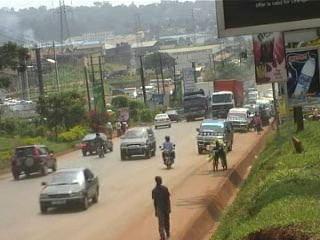Car: (37, 168, 102, 215), (10, 143, 60, 182), (117, 125, 158, 163), (78, 129, 115, 157), (152, 112, 172, 129), (164, 108, 179, 122)
Motorcycle: (158, 140, 176, 169), (93, 137, 106, 159)
